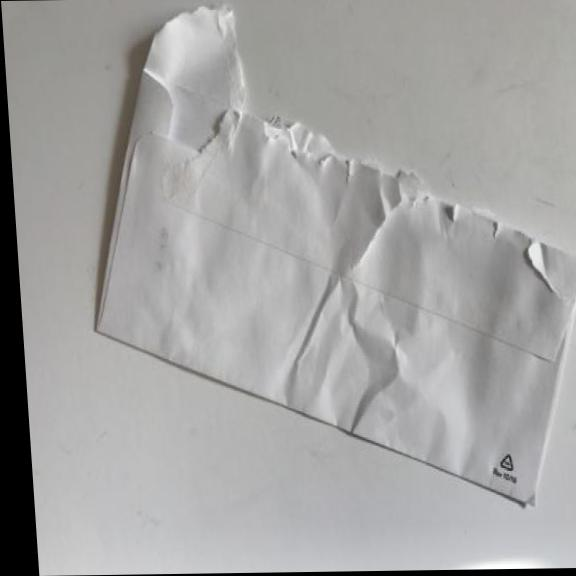Kertas: (70, 0, 576, 517)
